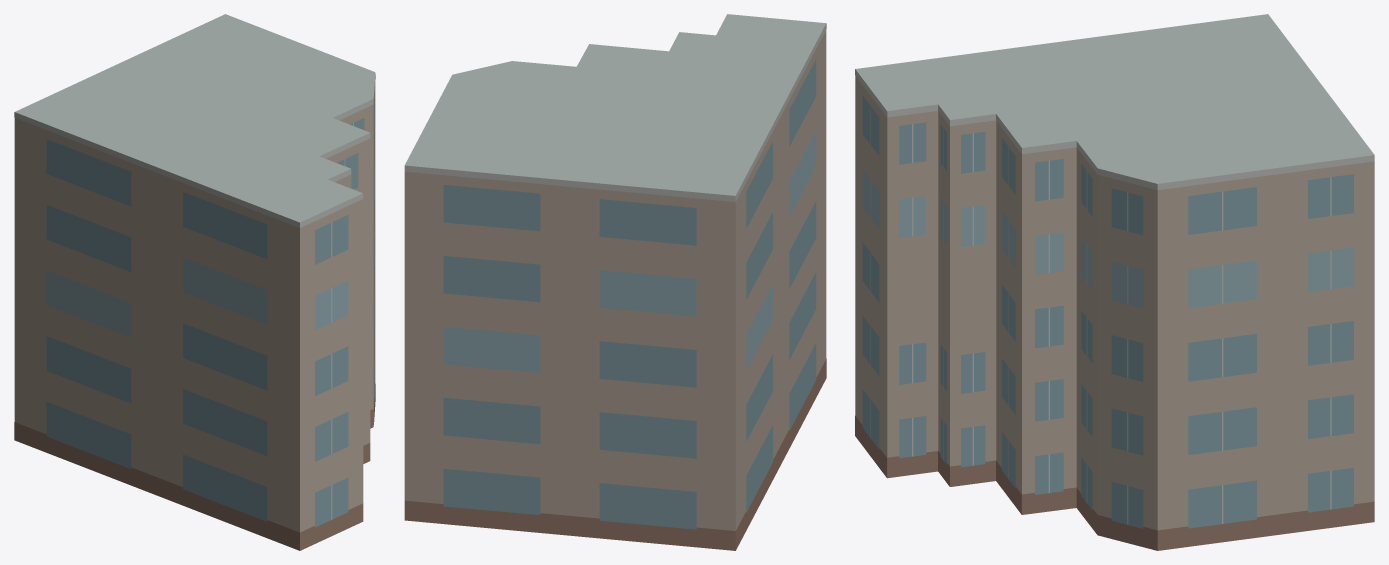
Rendered from survey-upis-32908944.glb.
The picture shows the model from 3 angles, left to right: view 1: azimuth 30°, elevation 25°; view 2: azimuth 150°, elevation 25°; view 3: azimuth 270°, elevation 25°; orthographic projection. The views are drawn at different scales.
Visible parts, largest first — view 1: survey-upis-32908944.tmp; view 2: survey-upis-32908944.tmp; view 3: survey-upis-32908944.tmp.
Part boxes in pixels (box(x1,y1,x2,y2)): survey-upis-32908944.tmp: box(14, 14, 375, 550); survey-upis-32908944.tmp: box(404, 14, 826, 550); survey-upis-32908944.tmp: box(855, 14, 1374, 550).
Size of the model in its own units: 14.11 by 14.2 by 18.23.
